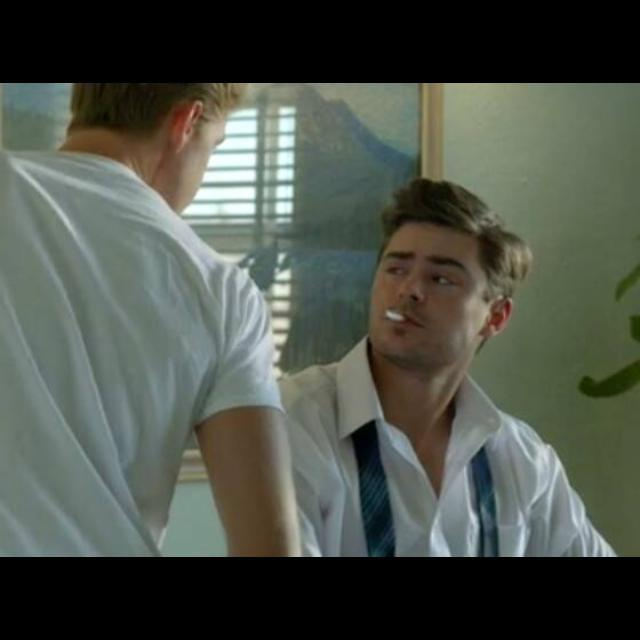rokok: (381, 307, 411, 329)
